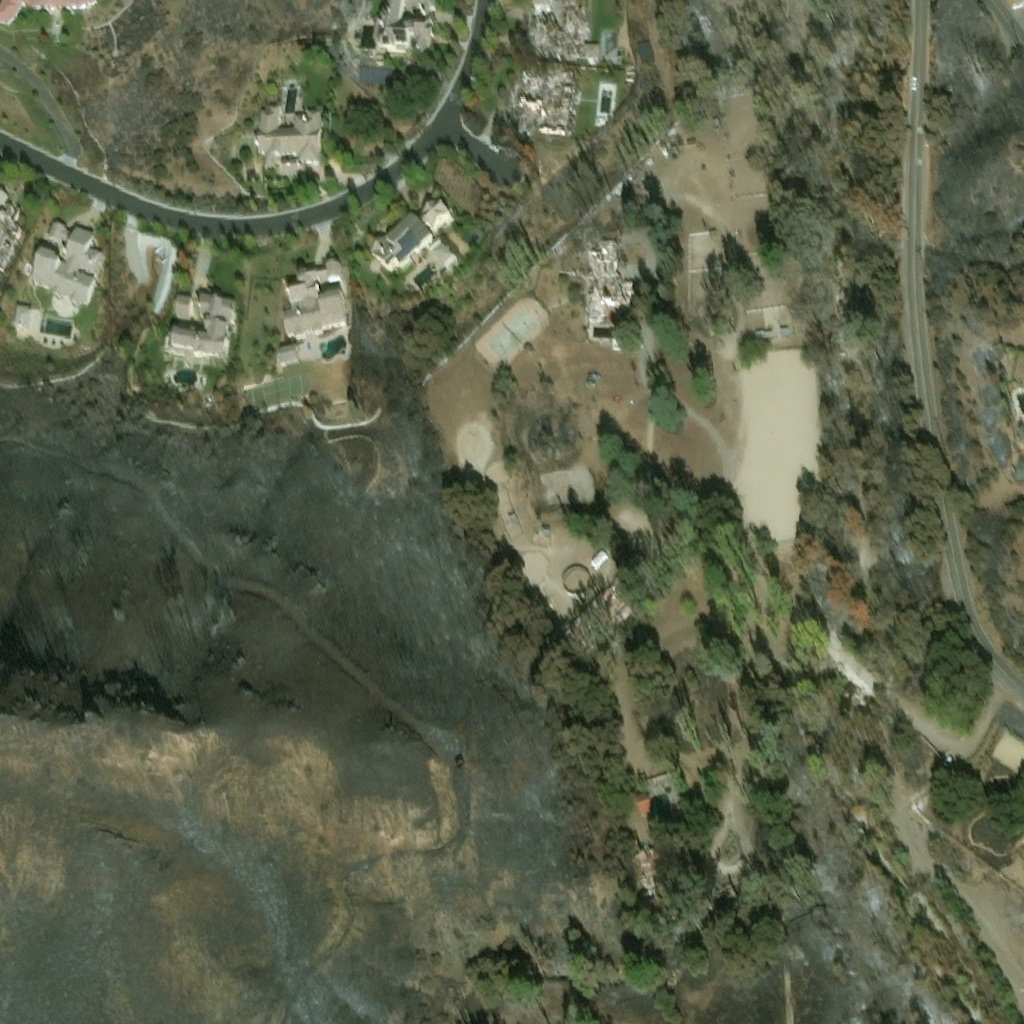0 no-damage: (32, 223, 106, 305), (256, 103, 326, 175), (166, 296, 240, 360), (283, 267, 348, 338), (372, 219, 436, 276), (374, 0, 437, 53), (630, 848, 670, 909), (0, 205, 23, 269), (719, 871, 754, 908), (425, 209, 456, 238), (356, 63, 390, 85), (433, 245, 456, 269), (638, 40, 656, 66), (279, 344, 300, 365), (174, 297, 192, 319), (12, 301, 30, 321), (587, 48, 604, 67), (606, 33, 620, 54), (637, 794, 650, 813), (754, 330, 773, 339), (780, 329, 791, 339)
3 destroyed: (509, 72, 578, 138), (526, 0, 590, 66), (587, 255, 616, 318), (602, 278, 632, 319), (600, 240, 618, 256), (506, 119, 524, 133), (536, 3, 551, 19), (571, 93, 583, 108), (592, 229, 601, 240), (584, 229, 592, 241), (567, 132, 575, 139)
4 un-classified: (699, 302, 730, 333), (0, 0, 18, 18), (590, 550, 608, 566)
